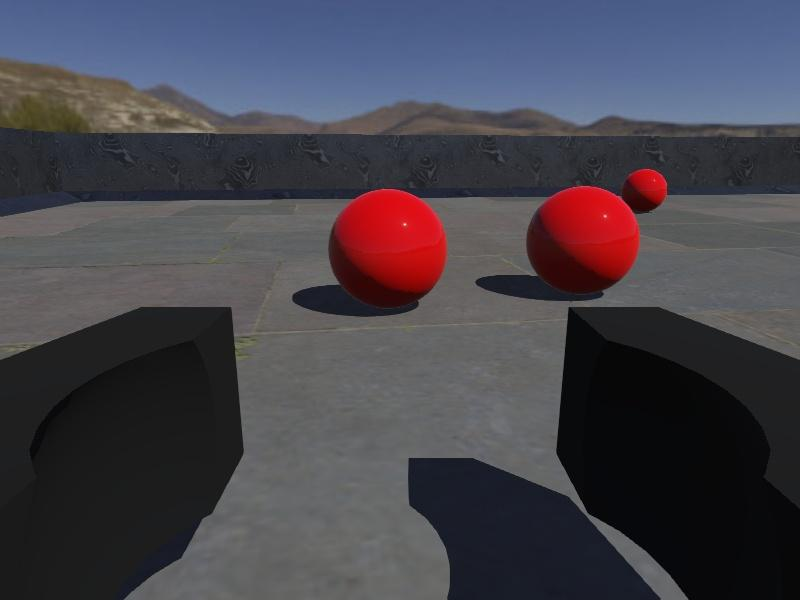red ball: (327, 187, 448, 310), (525, 184, 642, 297)
